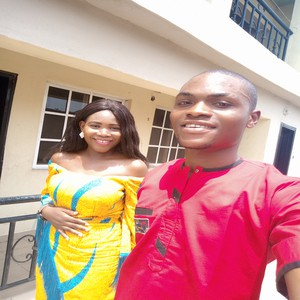Fulokoja_female_student: (46, 104, 131, 300)
Fulokoja_male_student: (152, 70, 270, 298)
